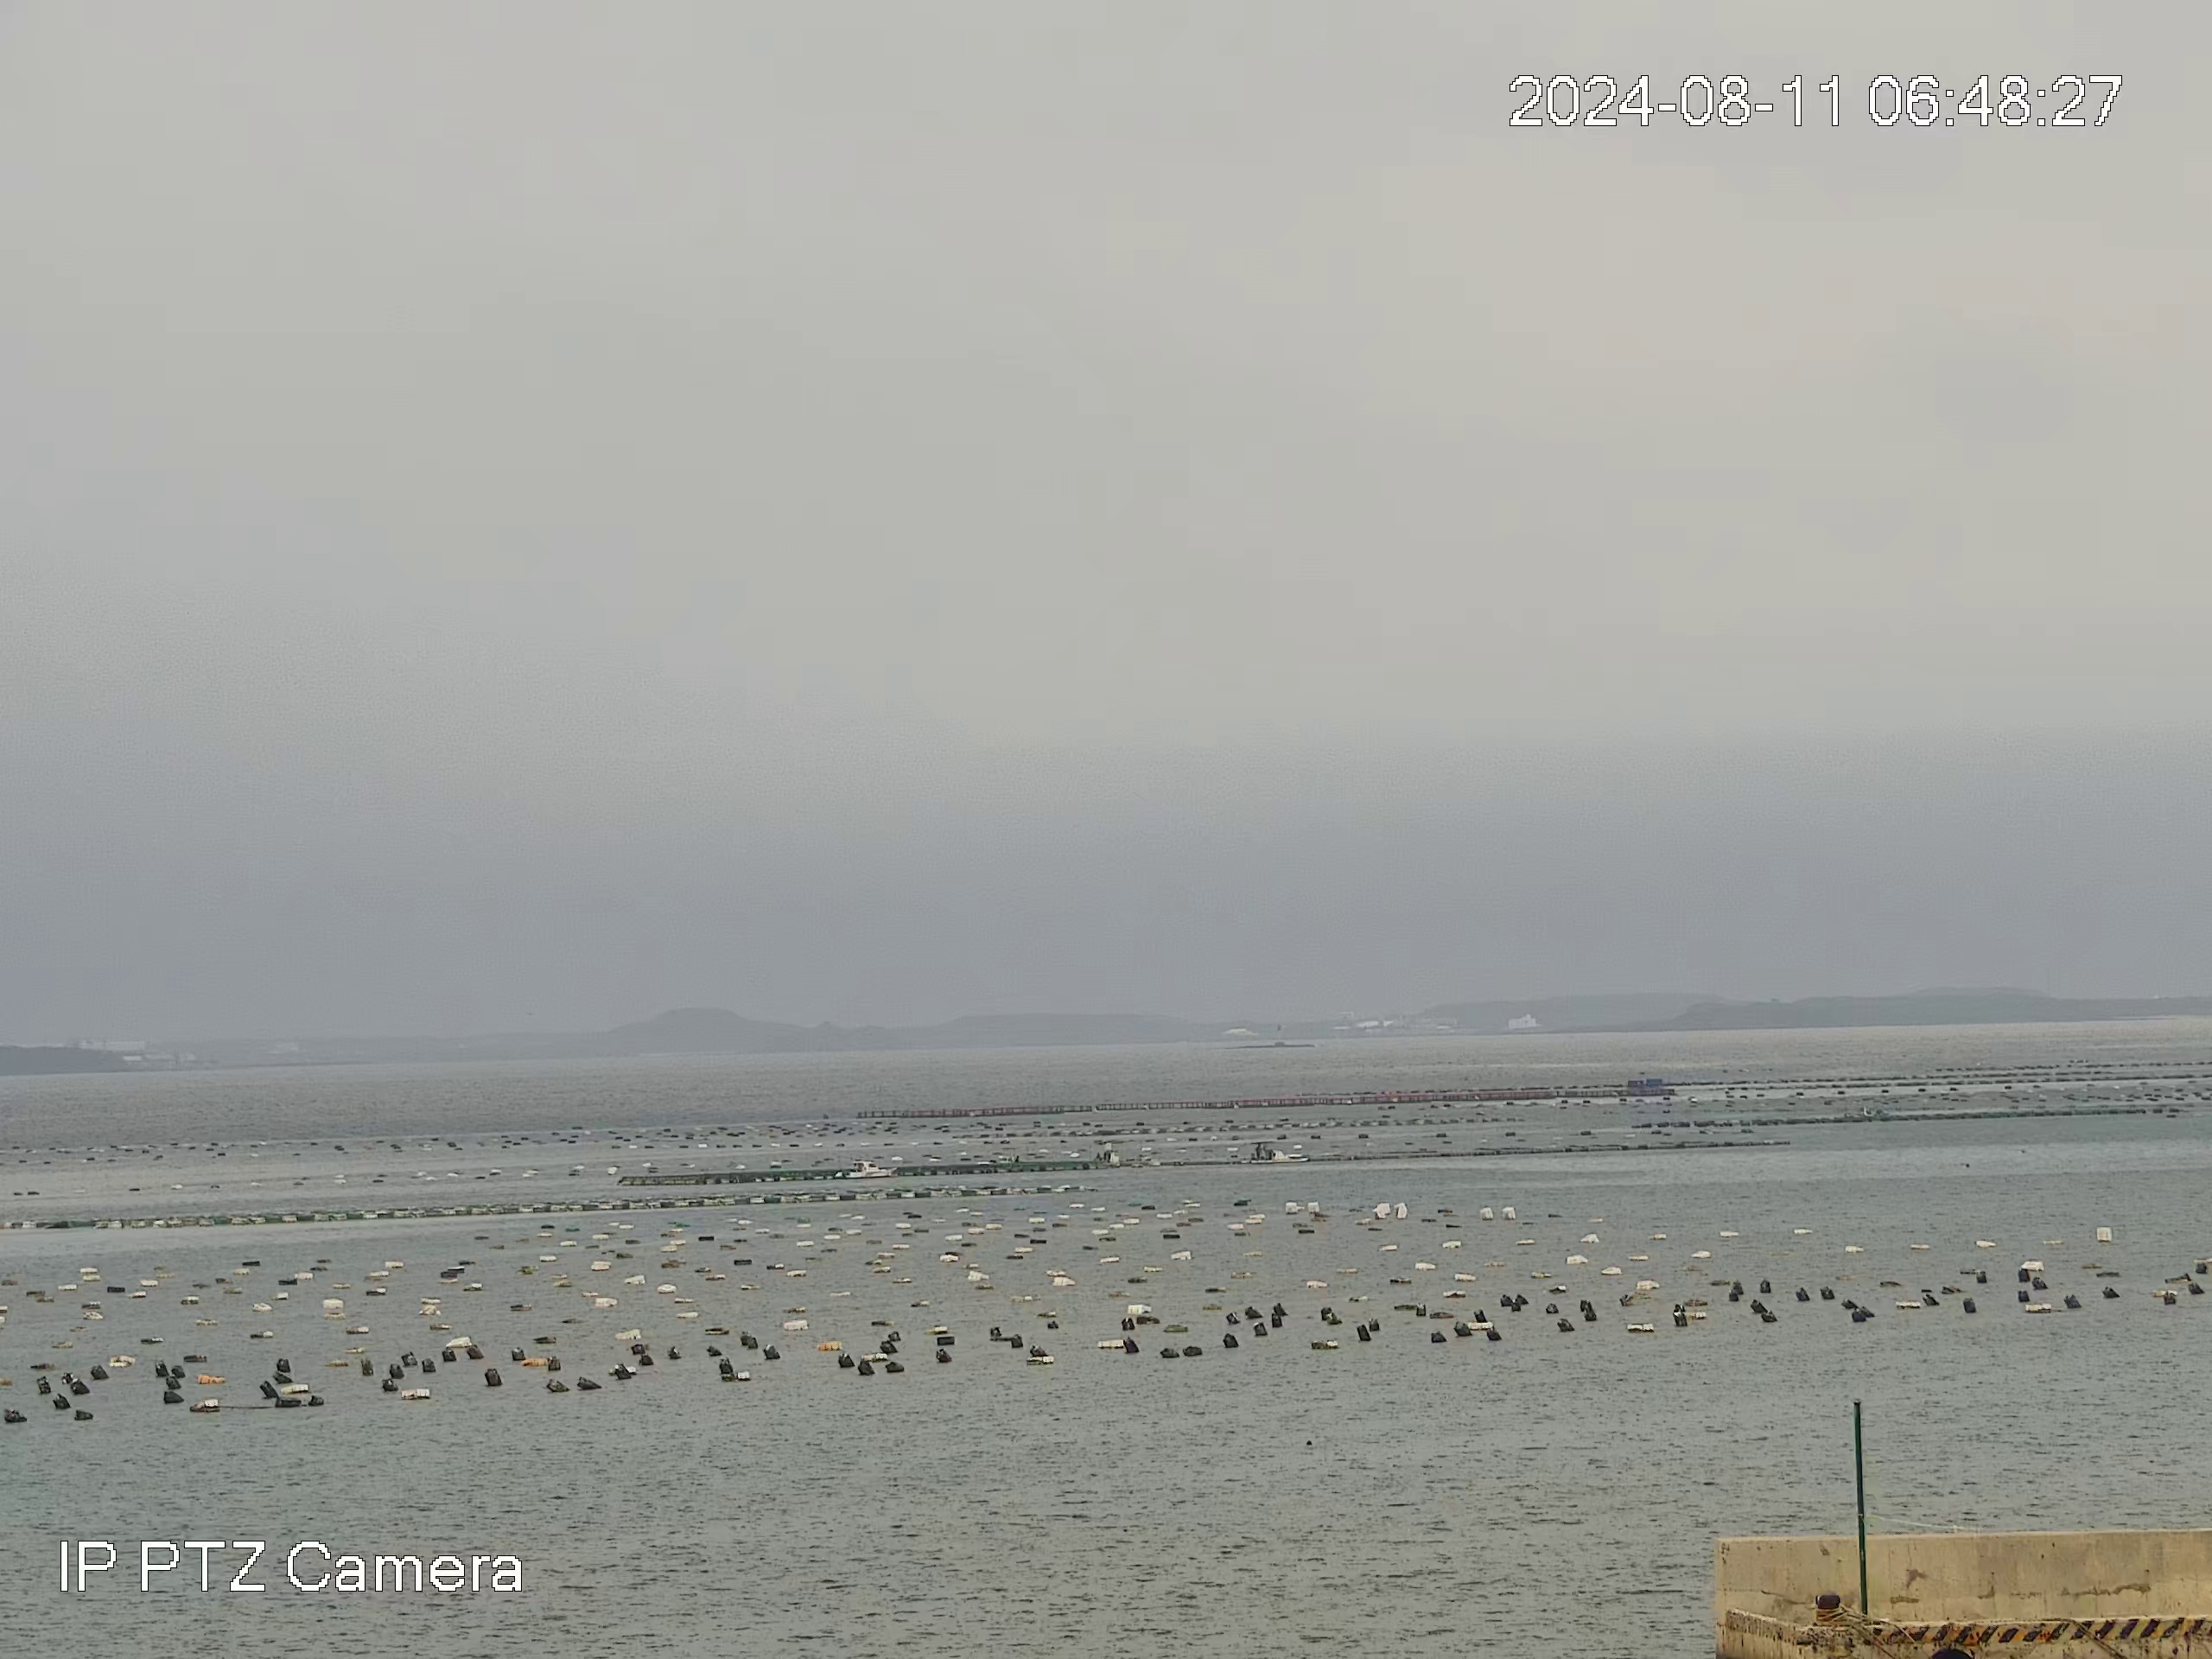boat: (833, 1159, 895, 1180), (1244, 1140, 1294, 1164)
